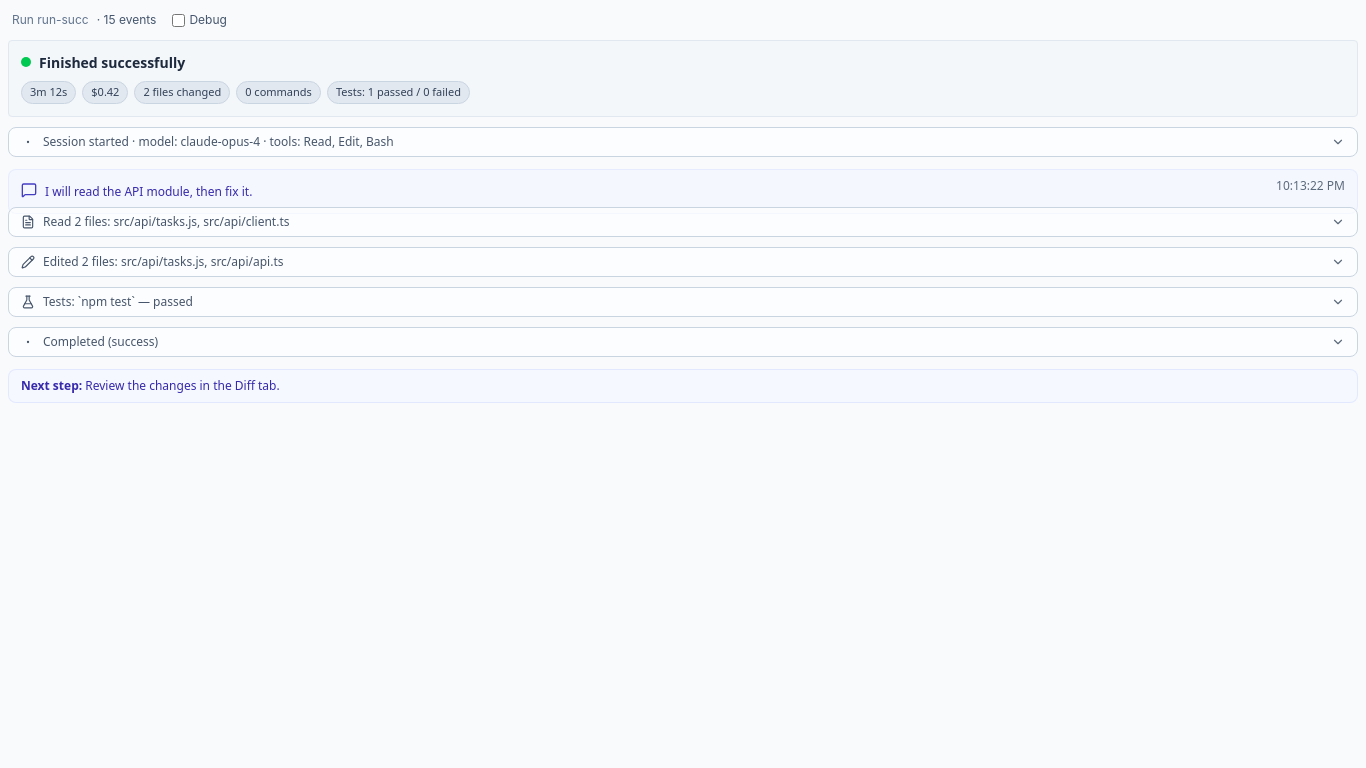
Test: RunLogPane timeline › Debug shows the flat list
expect the text "Finished successfully" is shown: met, box [39,53,185,73]
Click the checkbox labelled "Debug".
click(179, 20)  # box [172,14,185,26]
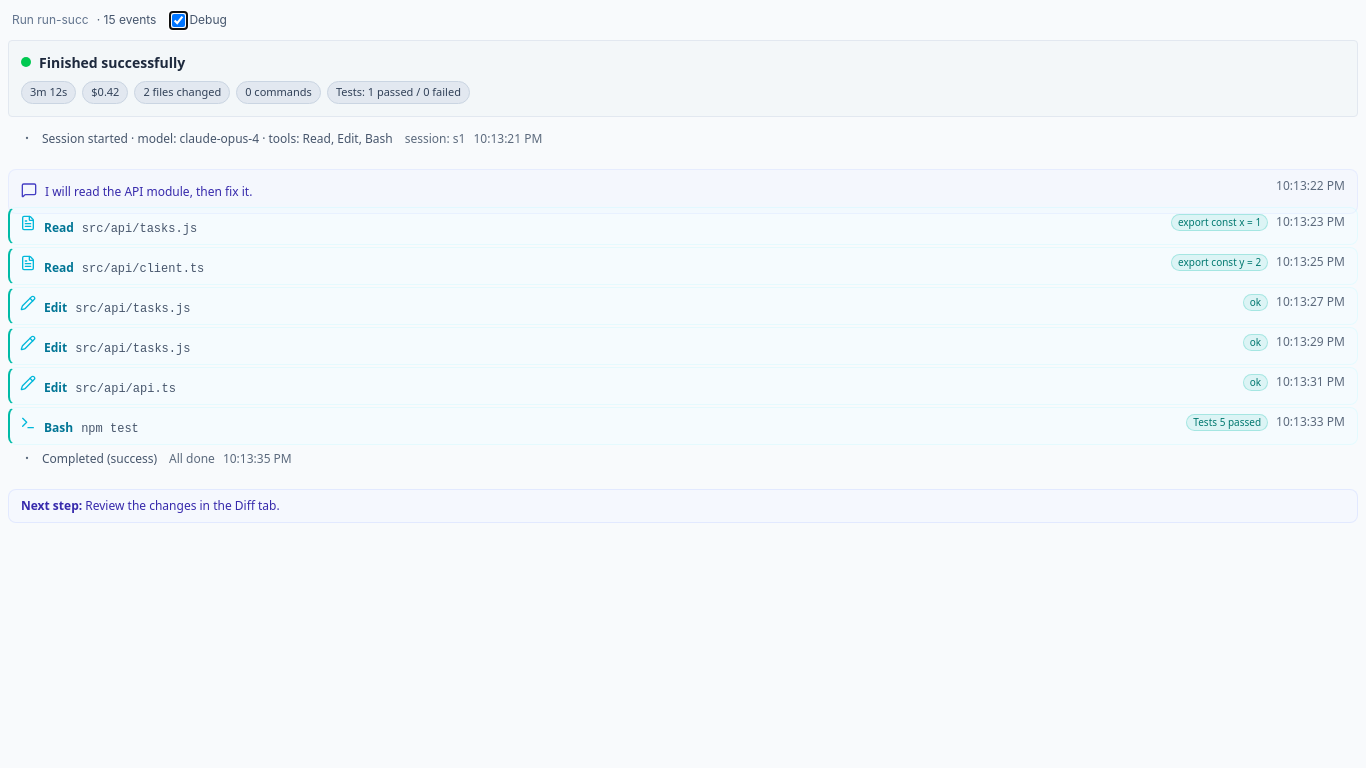
expect no elements with test id "step-group" are shown: met
expect the number of elements with test id "tool-row" is 6: met, box [8,206,1358,244]; [8,246,1358,284]; [8,286,1358,324]; [8,326,1358,364]; [8,366,1358,404]; [8,406,1358,444]
